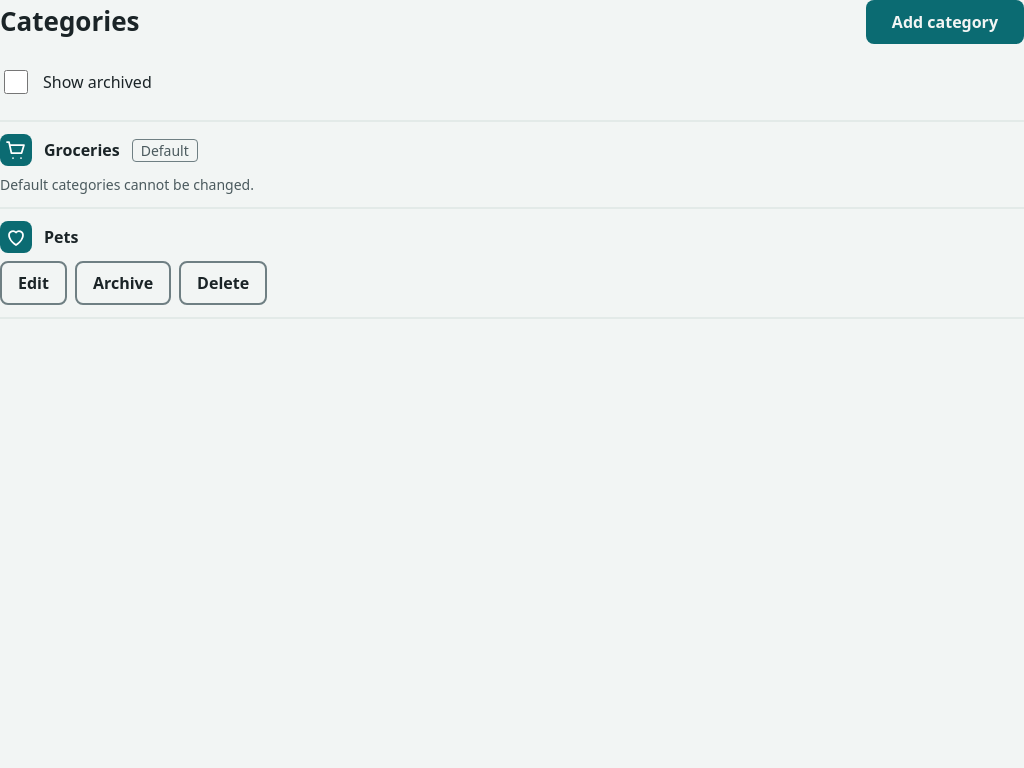
Test: CategoriesView › reopens the sheet with the draft and the server message when validation fails
Click the button "Add category" at [945, 22], box [866,0,1023,44]
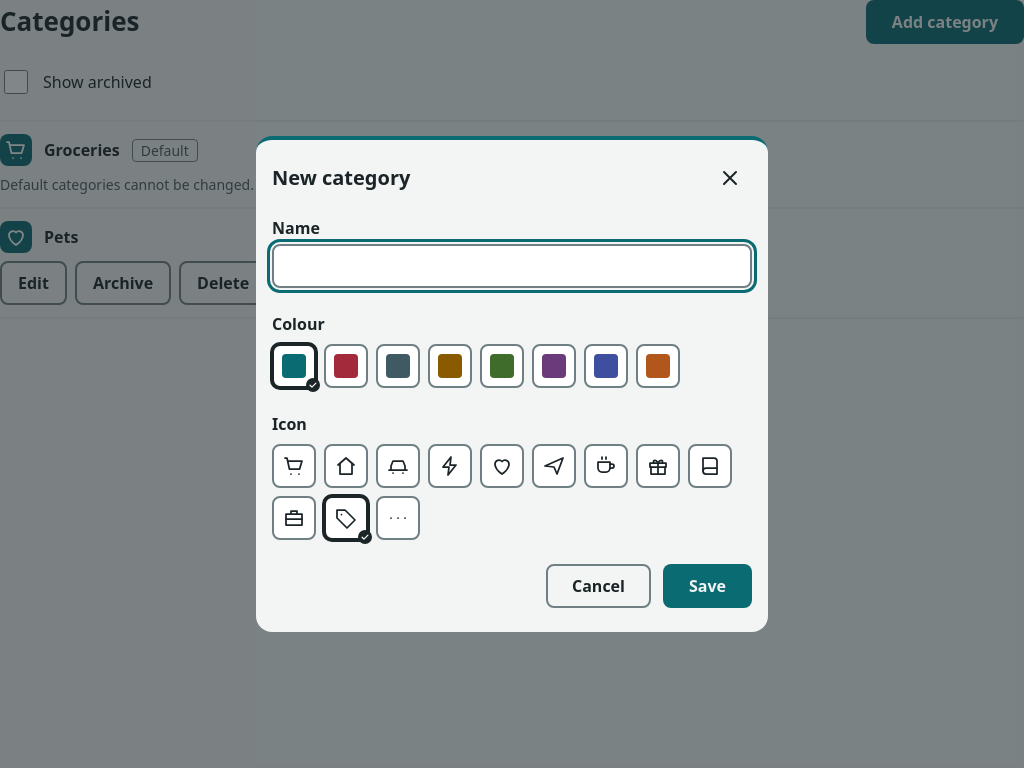
Type "Pets" into the field labelled "Name" at [512, 266], box [272,244,752,288]
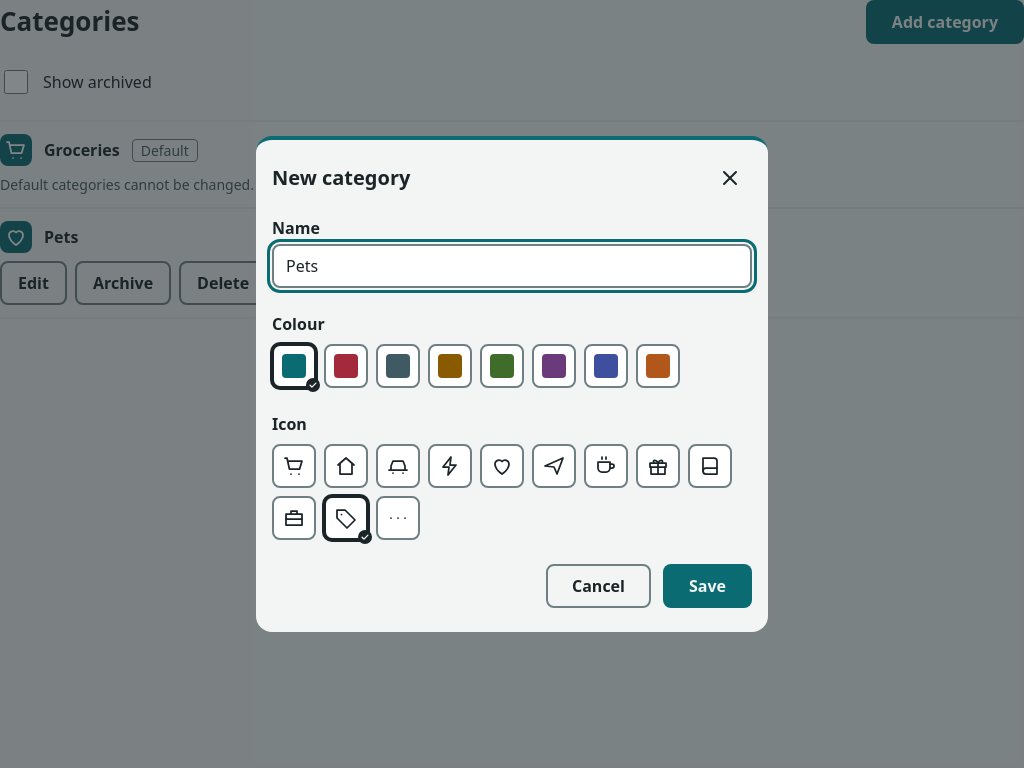
Submit the form, box [272,216,752,608]
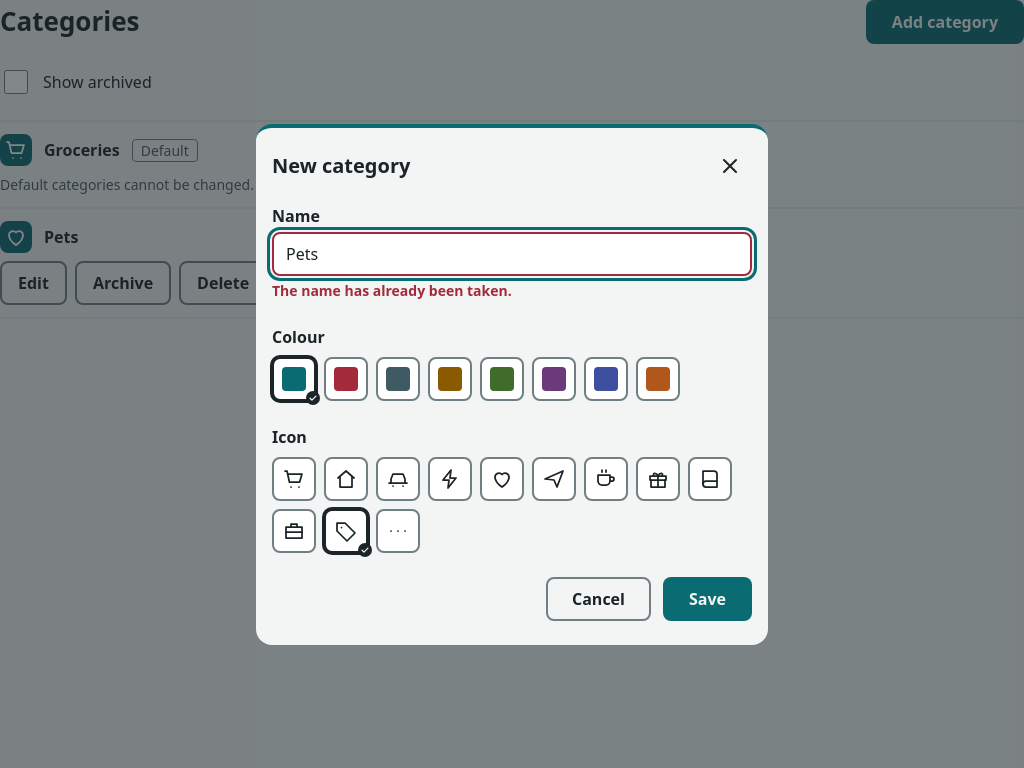
Result: the field labelled "Name" holds "Pets" at [272,232,752,276]
Result: the element showing "The name has already been taken." is shown at [272,280,512,300]
